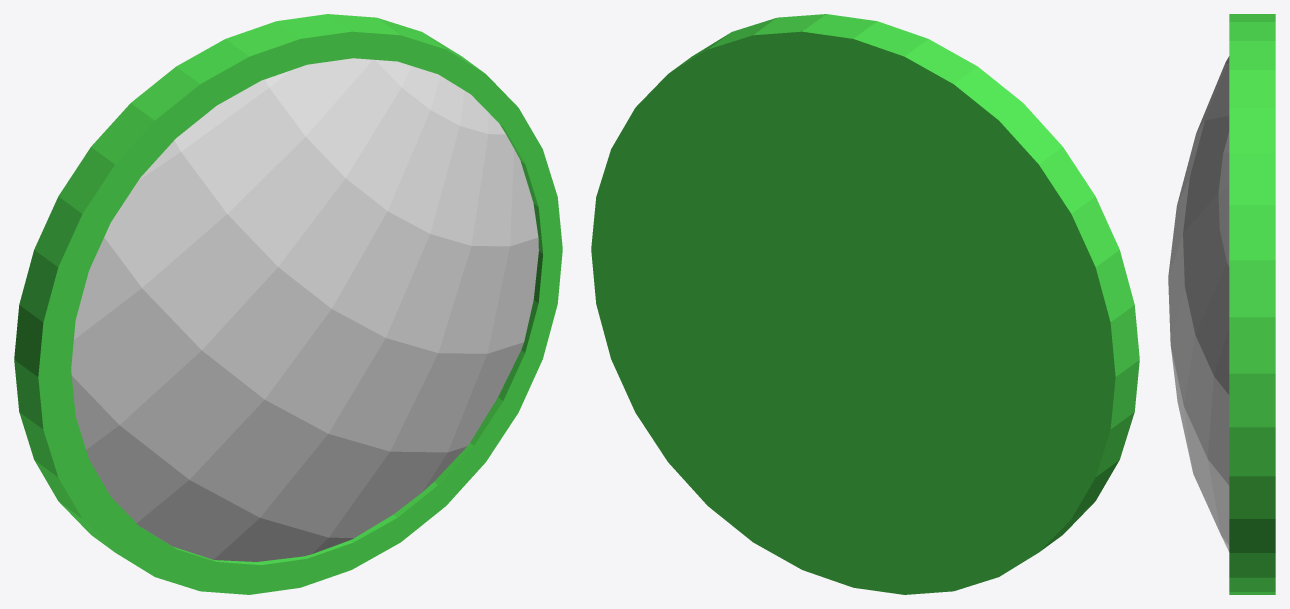
File: klok.glb
3 views of the same model, side by side, from view 1: azimuth 30°, elevation 25°; view 2: azimuth 150°, elevation 25°; view 3: azimuth 270°, elevation 25° (orthographic). The views are drawn at different scales.
Parts seen in each view (by area): view 1: Sphere, Cylinder.003; view 2: Cylinder.003; view 3: Cylinder.003, Sphere.
Boxes of the visible parts, x1,y1,x2,y2 form: Sphere: (71, 58, 538, 561); Cylinder.003: (14, 14, 562, 594); Cylinder.003: (591, 14, 1139, 594); Cylinder.003: (1229, 14, 1275, 594); Sphere: (1168, 56, 1229, 551).
Bounding box in the file's own units: 2.1 × 2.1 × 0.3885.
